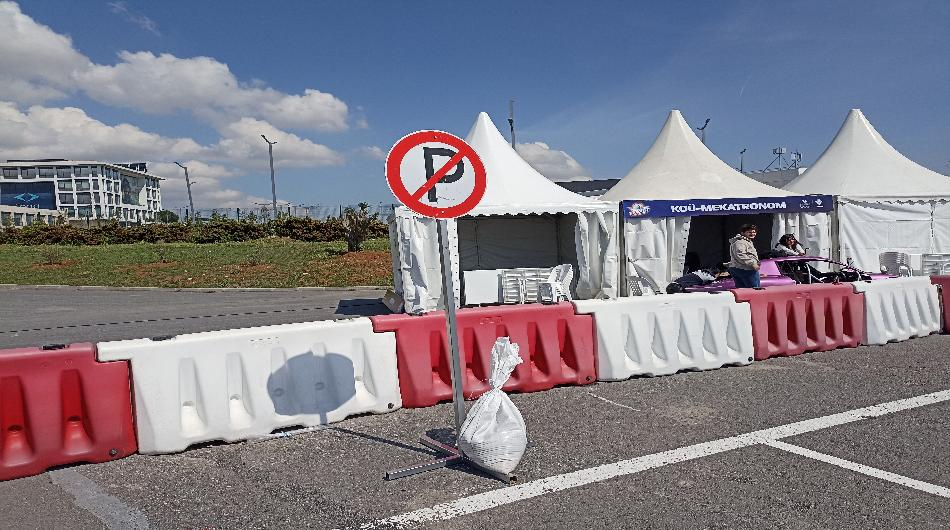park_yapilmaz_3: (381, 128, 486, 221)
